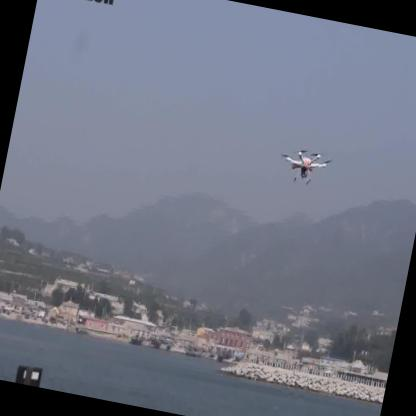drone: (271, 136, 337, 193)
